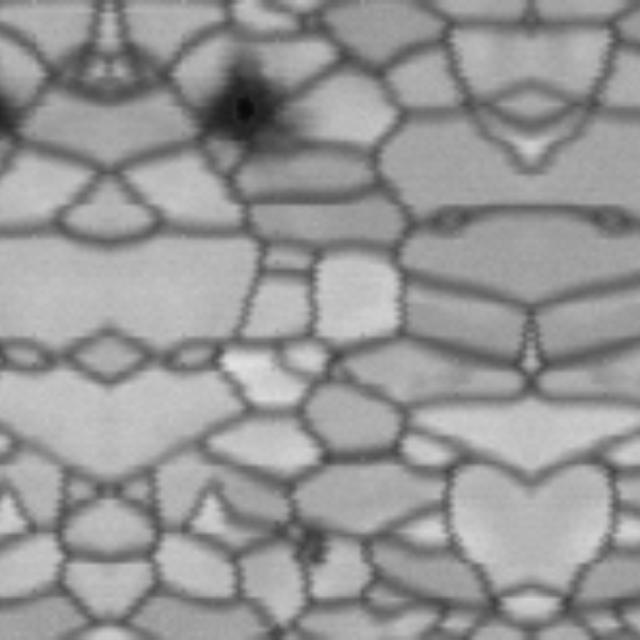good_void: (186, 64, 293, 156), (418, 189, 480, 245), (277, 515, 332, 573), (584, 189, 640, 245), (58, 47, 110, 98), (110, 47, 161, 98)
